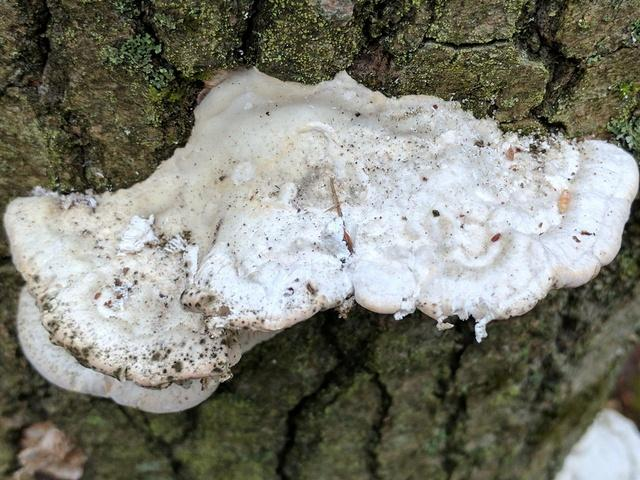Non-edible Mushroom: (2, 64, 637, 414)
